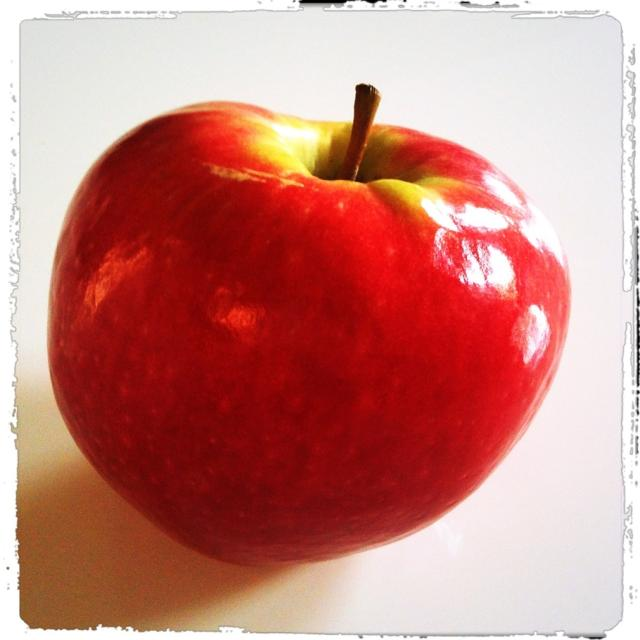Healty Apple: (42, 78, 570, 571)
